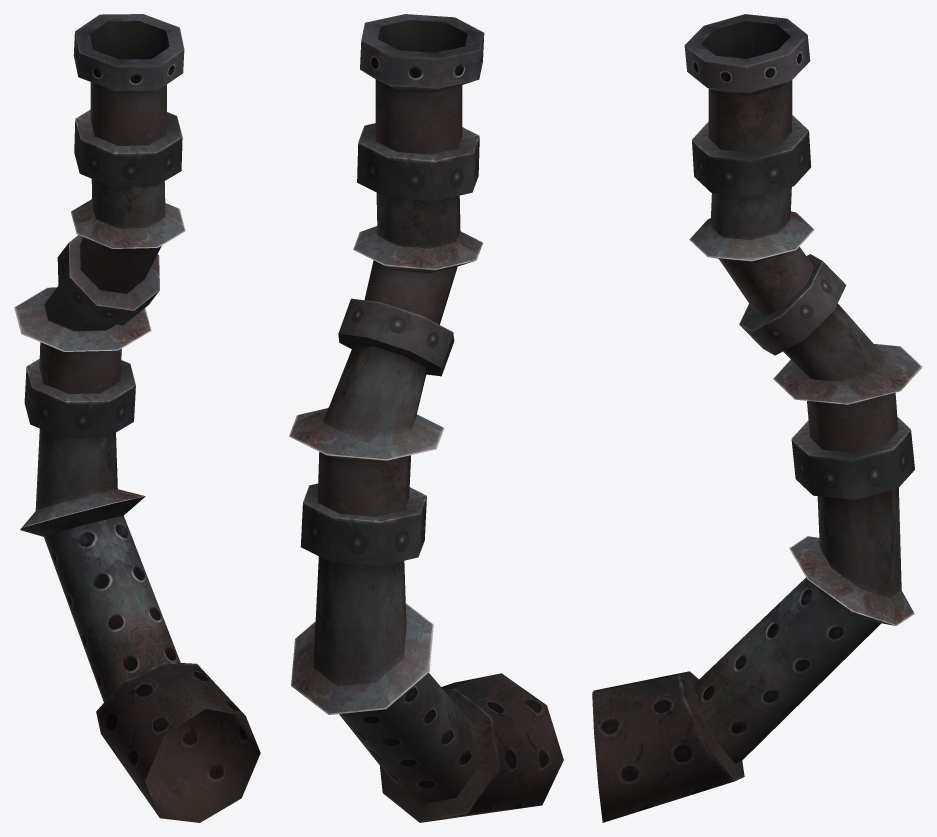
Rendered from SV_AFT_jjc2_yancong3_0.FBX.
3 views of the same model, side by side, from view 1: azimuth 30°, elevation 25°; view 2: azimuth 150°, elevation 25°; view 3: azimuth 270°, elevation 25° (orthographic). The views are drawn at different scales.
Parts seen in each view (by area): view 1: SV_AFT_jjc2_yancong3_0; view 2: SV_AFT_jjc2_yancong3_0; view 3: SV_AFT_jjc2_yancong3_0.
Part boxes in pixels (<box>): SV_AFT_jjc2_yancong3_0: <box>14,14,260,822</box>; SV_AFT_jjc2_yancong3_0: <box>289,14,563,822</box>; SV_AFT_jjc2_yancong3_0: <box>592,14,922,822</box>.
Bounding box in the file's own units: 1.49 × 8.55 × 3.28.
